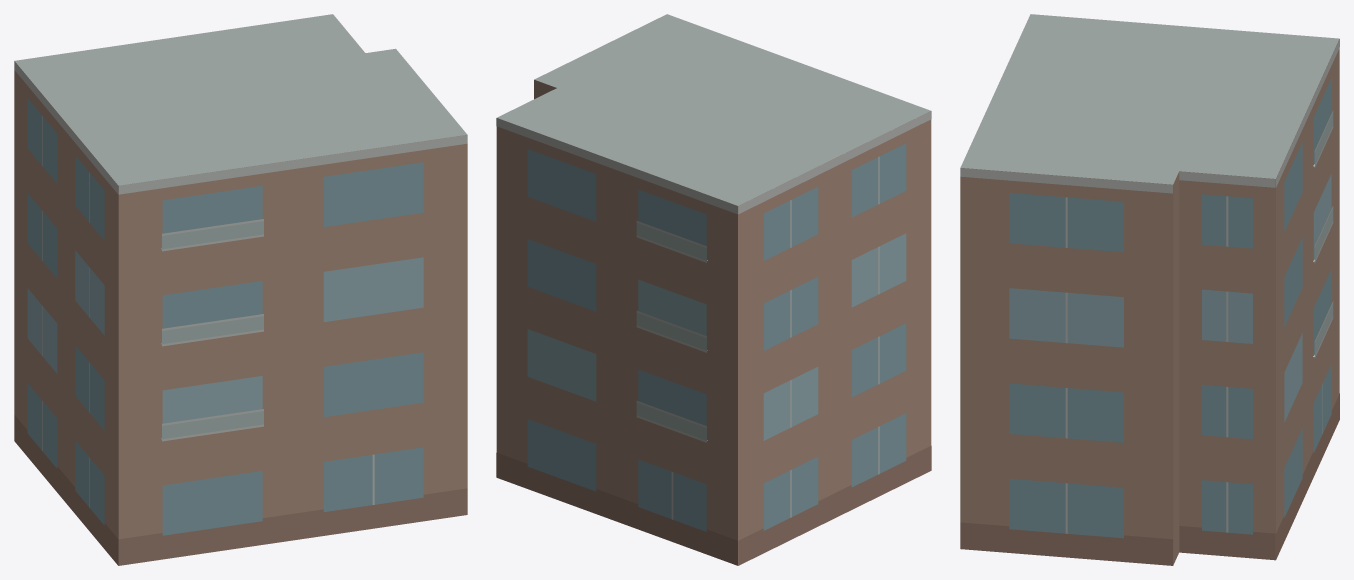
File: survey-upis-32537634.glb
3 renders of one model, left to right at view 1: azimuth 30°, elevation 25°; view 2: azimuth 150°, elevation 25°; view 3: azimuth 270°, elevation 25°, orthographic. The views are drawn at different scales.
Parts seen in each view (by area): view 1: survey-upis-32537634.tmp; view 2: survey-upis-32537634.tmp; view 3: survey-upis-32537634.tmp.
Boxes of the visible parts, x1,y1,x2,y2 form: survey-upis-32537634.tmp: (14, 14, 467, 565); survey-upis-32537634.tmp: (496, 14, 931, 565); survey-upis-32537634.tmp: (960, 14, 1339, 565).
Size of the model in its own units: 9.99 by 10.4 by 9.39.
